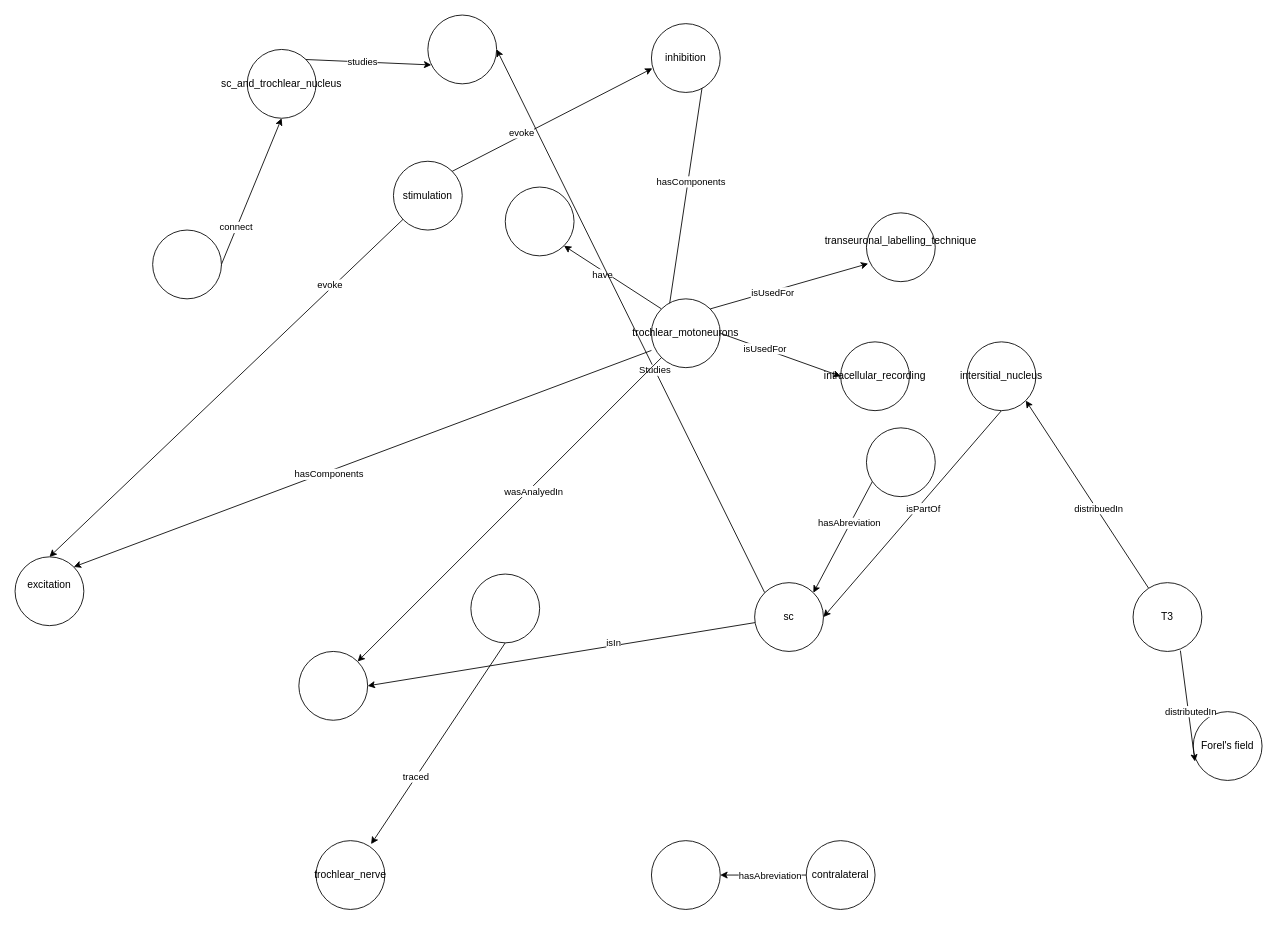
Image size: 1277x925. Some labels were removed from this diagram. The shapes that lost their labels are listed below. From the top down, each one's box as (x1, y1, x2, y2) in pixels, then its label:
(427, 14, 497, 84): electrophysiologically
(504, 186, 574, 256): latencies
(152, 229, 221, 299): Intermediairies
(866, 427, 935, 497): superior_colliculus
(470, 573, 540, 643): T3_wheat_germ
(298, 651, 368, 720): cats
(651, 840, 720, 909): CL
